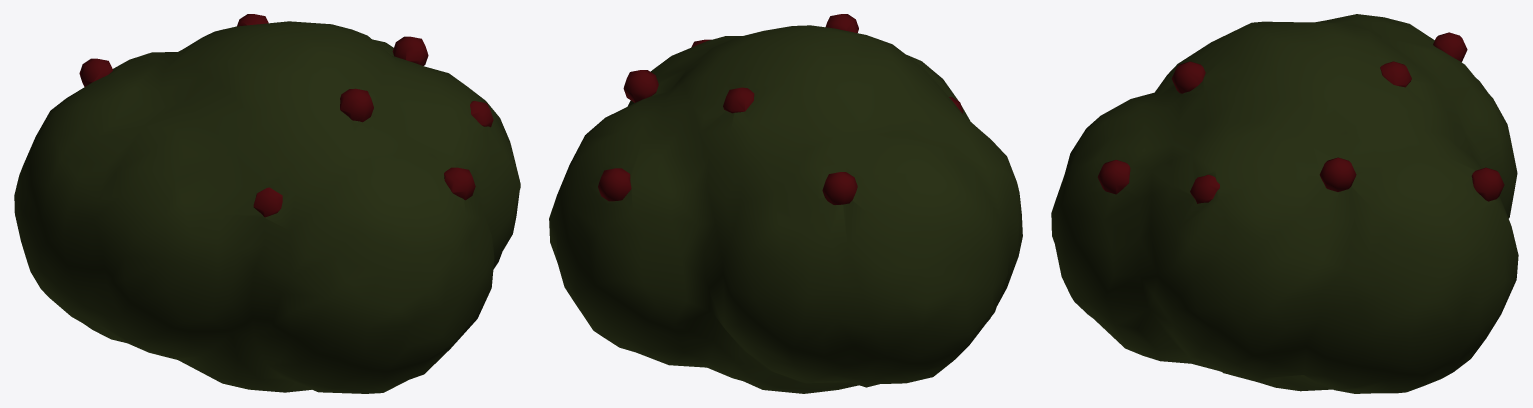
The model's file is Bush_Berries.FBX.
3 renders of one model, left to right at view 1: azimuth 30°, elevation 25°; view 2: azimuth 150°, elevation 25°; view 3: azimuth 270°, elevation 25°, orthographic.
Parts seen in each view (by area): view 1: Bush_Berries; view 2: Bush_Berries; view 3: Bush_Berries.
Part boxes in pixels (x1,y1,x2,y2): Bush_Berries: (14,14,520,393); Bush_Berries: (549,14,1022,393); Bush_Berries: (1051,14,1518,393).
Size of the model in its own units: 130 by 126 by 101.
